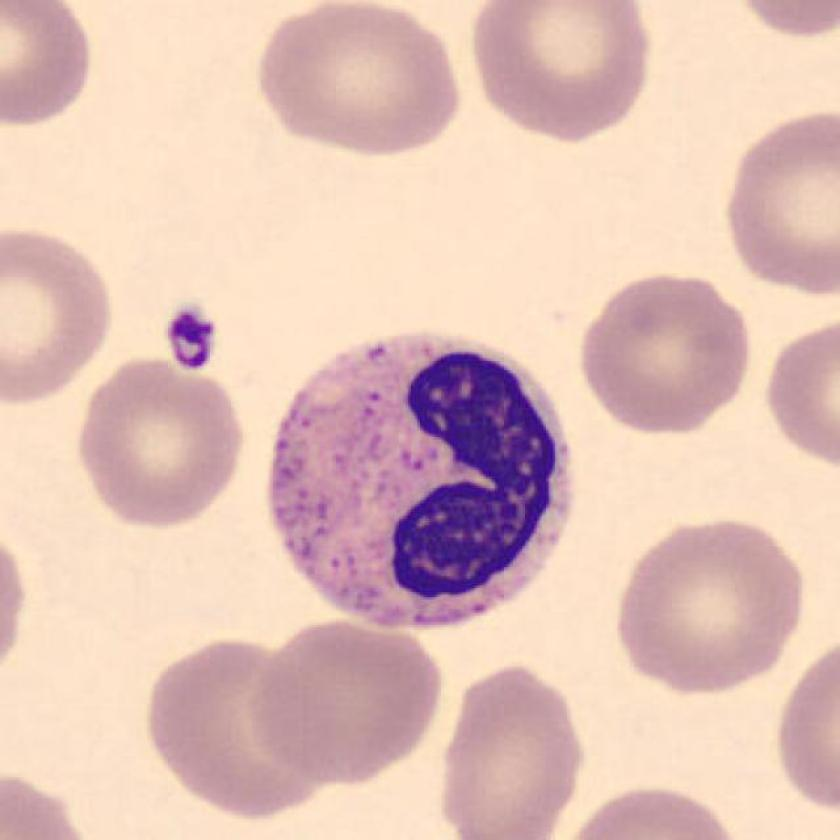neutrophil: (272, 337, 570, 631)
